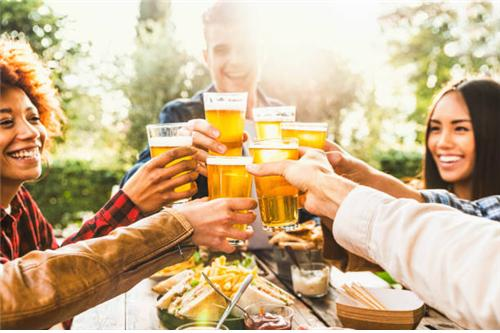alcohol: (247, 141, 302, 232), (206, 156, 251, 246), (147, 123, 193, 207), (200, 92, 247, 157), (281, 123, 329, 158), (251, 105, 293, 140)
